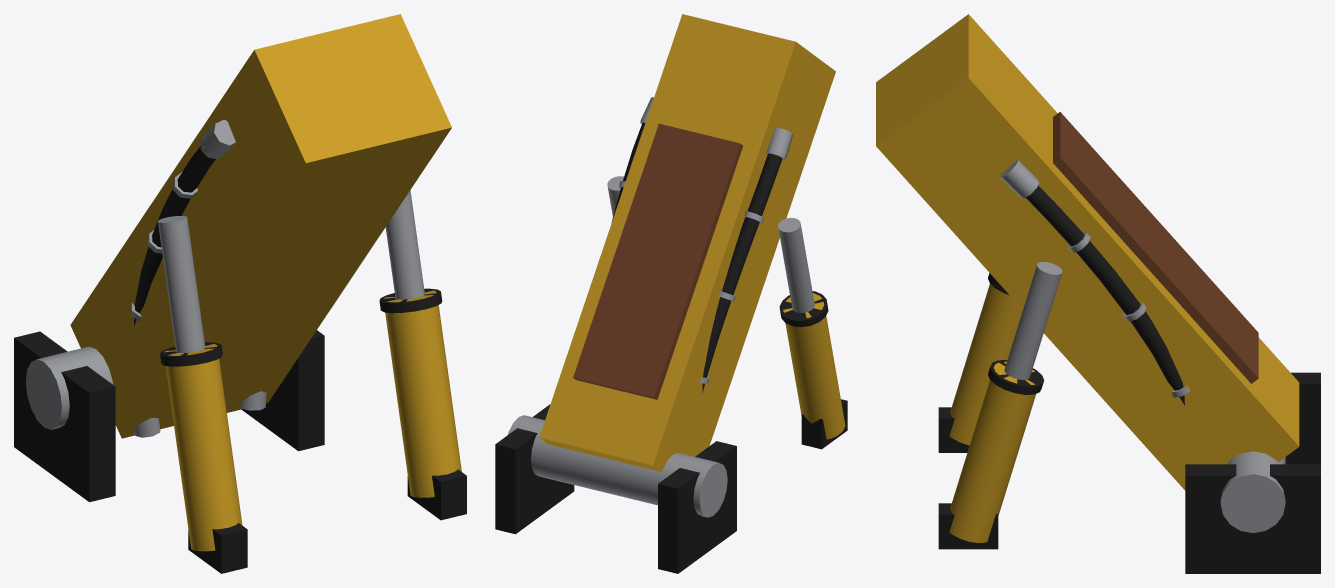
The model's file is mk1_boom.obj.
3 views of the same model, side by side, from view 1: azimuth 30°, elevation 25°; view 2: azimuth 150°, elevation 25°; view 3: azimuth 270°, elevation 25° (orthographic). The views are drawn at different scales.
Visible parts, largest first — view 1: mk1_boom; view 2: mk1_boom; view 3: mk1_boom.
Part boxes in pixels (x1=…): mk1_boom: x1=14, y1=14, x2=466, y2=573; mk1_boom: x1=495, y1=14, x2=847, y2=573; mk1_boom: x1=876, y1=14, x2=1320, y2=573.
Size of the model in its own units: 1.05 by 1.94 by 1.64.
